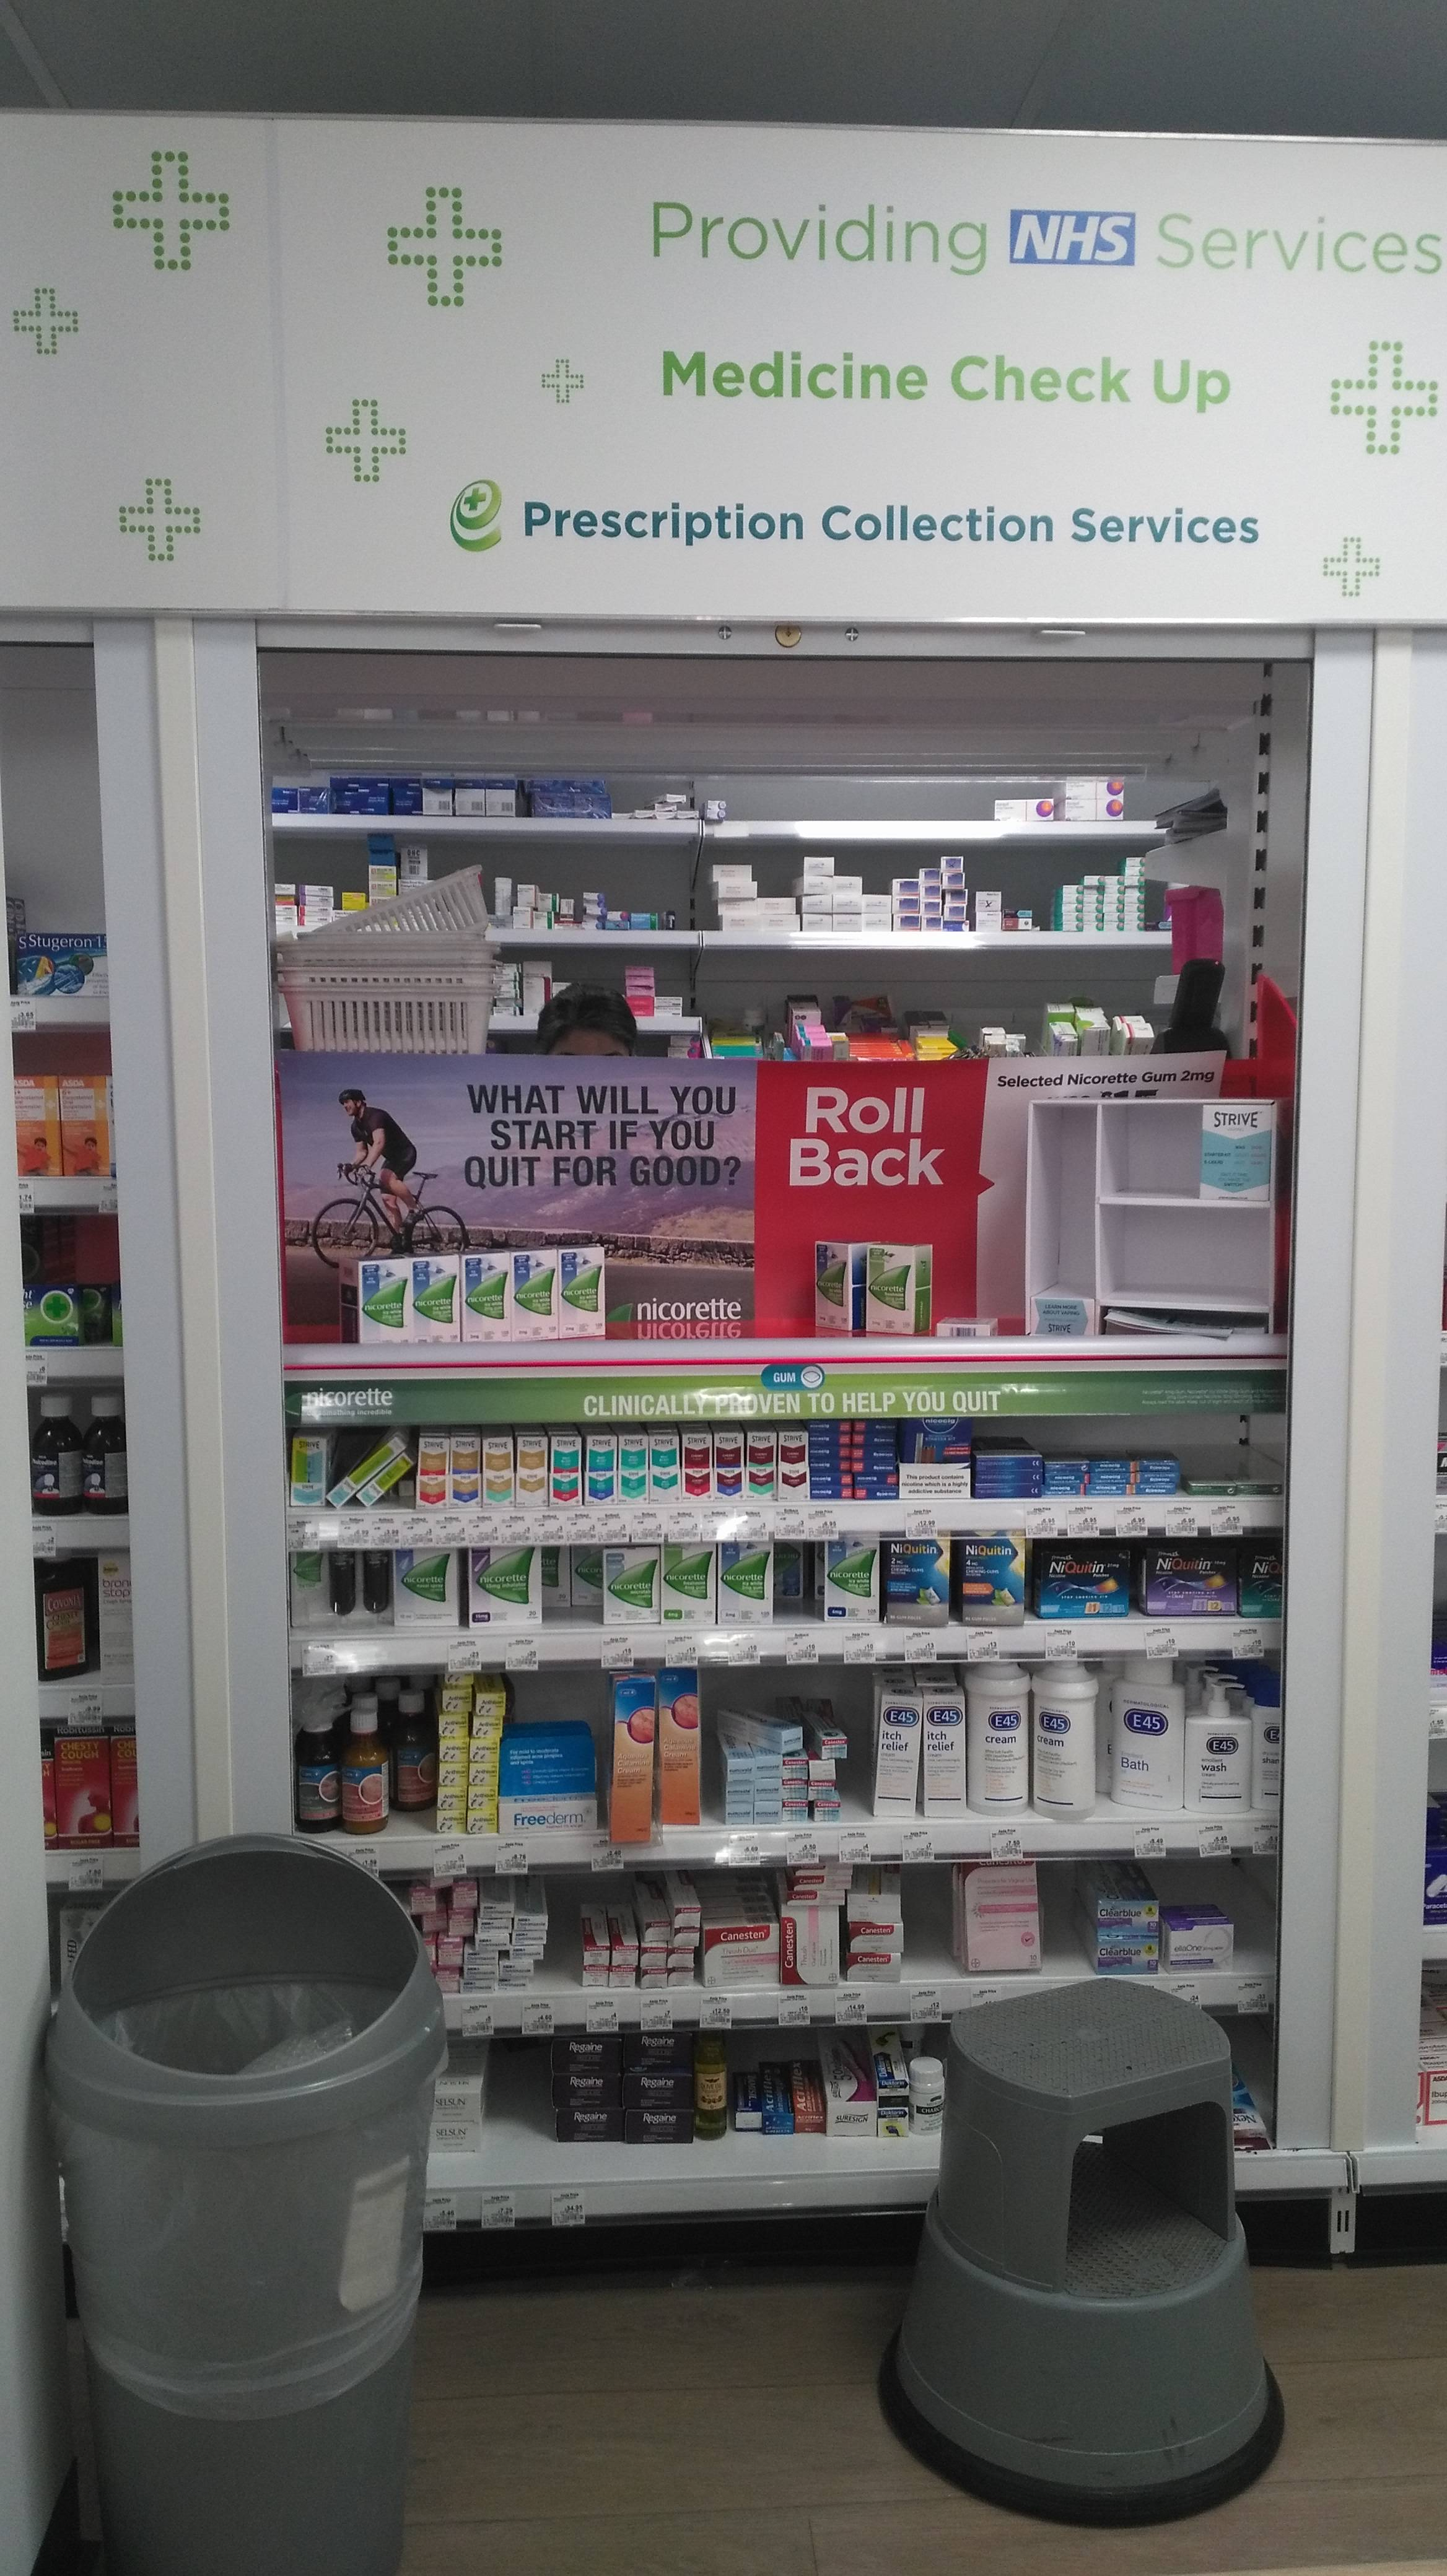product: (1106, 1653, 1181, 1807), (968, 1653, 1034, 1813), (1034, 1653, 1095, 1811), (960, 1861, 1041, 1978), (503, 1733, 598, 1831), (710, 1703, 782, 1824), (1184, 1676, 1246, 1808), (603, 1674, 652, 1839), (1139, 1538, 1236, 1618), (1034, 1537, 1126, 1617), (399, 1878, 463, 1990), (1201, 1105, 1274, 1203), (54, 1711, 107, 1843), (462, 1544, 543, 1630), (338, 1705, 391, 1834), (898, 1412, 971, 1502), (108, 1710, 155, 1846), (860, 1247, 935, 1331), (657, 1674, 698, 1828), (919, 1684, 968, 1816), (960, 1529, 1025, 1627), (328, 1433, 408, 1512), (341, 1254, 406, 1349), (881, 1531, 948, 1624), (1247, 1674, 1293, 1808), (36, 1554, 85, 1679), (12, 931, 102, 999), (877, 1682, 923, 1814), (78, 1392, 127, 1515), (286, 1711, 336, 1831), (87, 1554, 132, 1682), (393, 1546, 460, 1631), (27, 1396, 76, 1511), (826, 2021, 875, 2133), (823, 1529, 879, 1624), (63, 1068, 112, 1174), (408, 1251, 462, 1346), (391, 1695, 437, 1808), (715, 1541, 772, 1624), (710, 1923, 781, 1990), (781, 1911, 839, 1990), (658, 1541, 715, 1621), (14, 1081, 63, 1173), (461, 1894, 507, 1990), (510, 1247, 555, 1342), (461, 1255, 509, 1344), (813, 1240, 859, 1331), (13, 1283, 78, 1346), (557, 1247, 603, 1336), (810, 1417, 855, 1507), (1238, 1538, 1285, 1621), (694, 2031, 730, 2139), (1168, 1915, 1241, 1967), (282, 1549, 330, 1630), (510, 1895, 548, 1994), (607, 1549, 658, 1622), (807, 1725, 845, 1820), (856, 1417, 897, 1503), (1093, 1882, 1161, 1934), (286, 1434, 326, 1518), (851, 1895, 908, 1952), (581, 1936, 637, 1995), (401, 2086, 482, 2124), (782, 1864, 847, 1911), (619, 2065, 691, 2107), (1031, 1295, 1099, 1339), (669, 1903, 701, 1990), (910, 2056, 943, 2139), (330, 1547, 364, 1628), (623, 2024, 690, 2065), (976, 1454, 1044, 1494), (1091, 1936, 1164, 1972), (623, 2108, 687, 2148), (553, 2068, 617, 2107), (403, 2123, 475, 2156), (792, 2061, 825, 2133), (561, 2111, 623, 2149), (638, 1907, 667, 1989), (877, 2065, 908, 2139), (939, 1308, 1000, 1344), (760, 2063, 790, 2133), (365, 1550, 393, 1628), (842, 1953, 909, 1984), (557, 2036, 623, 2067), (1139, 1454, 1184, 1495), (1089, 1458, 1139, 1495), (736, 2065, 761, 2136), (777, 1541, 810, 1595), (572, 1546, 601, 1604), (543, 1547, 571, 1605), (1043, 1456, 1086, 1491), (785, 1759, 807, 1824), (681, 1430, 714, 1470), (416, 1434, 449, 1473), (515, 1437, 549, 1476), (553, 1434, 586, 1473), (584, 1432, 617, 1472), (648, 1434, 681, 1474), (450, 1437, 483, 1476), (1187, 1471, 1239, 1495), (482, 1432, 514, 1471), (777, 1467, 813, 1503), (777, 1427, 810, 1464), (617, 1430, 649, 1469), (549, 1473, 582, 1508), (482, 1474, 515, 1508), (619, 1473, 652, 1508), (586, 1471, 614, 1509), (715, 1430, 743, 1468), (648, 1475, 684, 1505), (416, 1475, 448, 1508), (515, 1475, 549, 1507), (748, 1430, 776, 1469), (1238, 1471, 1280, 1495), (710, 1470, 744, 1501), (448, 1475, 478, 1508), (744, 1469, 777, 1495), (437, 1737, 469, 1763), (686, 1470, 710, 1503), (465, 1785, 499, 1809), (436, 1712, 470, 1735), (470, 1739, 502, 1762), (440, 1687, 473, 1710), (468, 1761, 499, 1785), (474, 1691, 505, 1715), (465, 1808, 496, 1832), (440, 1666, 471, 1689), (440, 1762, 468, 1786), (437, 1787, 462, 1811), (472, 1715, 502, 1734), (437, 1811, 463, 1831)
